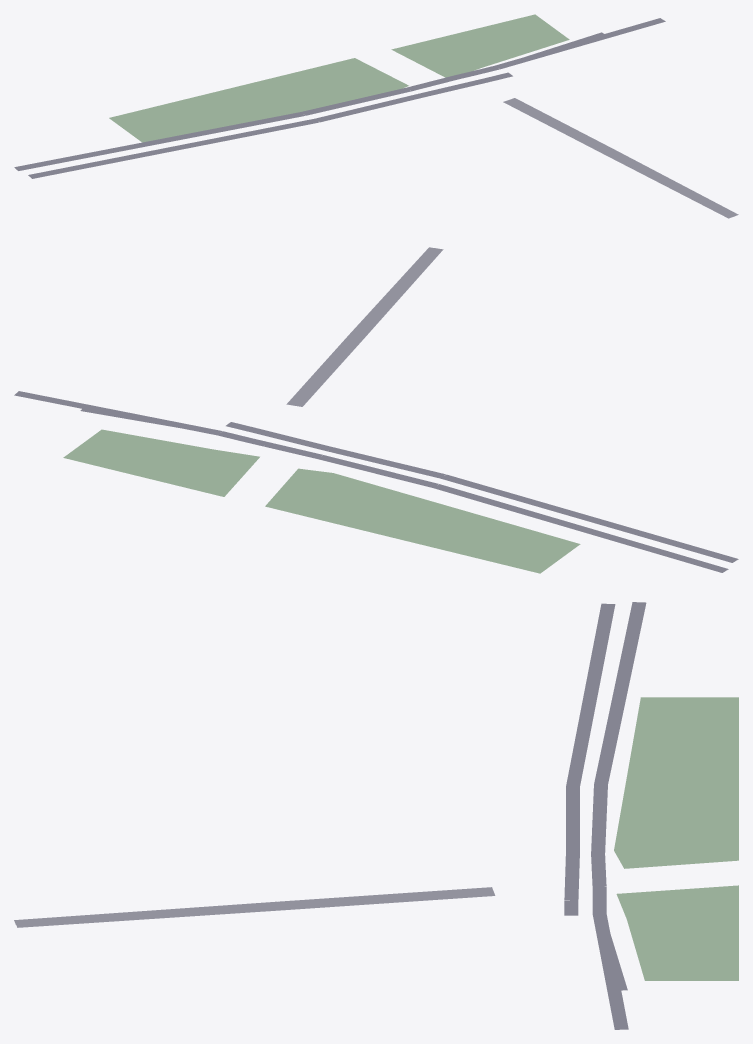
File: 126_129_mid.glb
The picture shows the model from 3 angles, top to bottom: view 1: azimuth 30°, elevation 25°; view 2: azimuth 150°, elevation 25°; view 3: azimuth 270°, elevation 25°; orthographic projection. The views are drawn at different scales.
Size of the model in its own units: 752 by 10.08 by 542.
